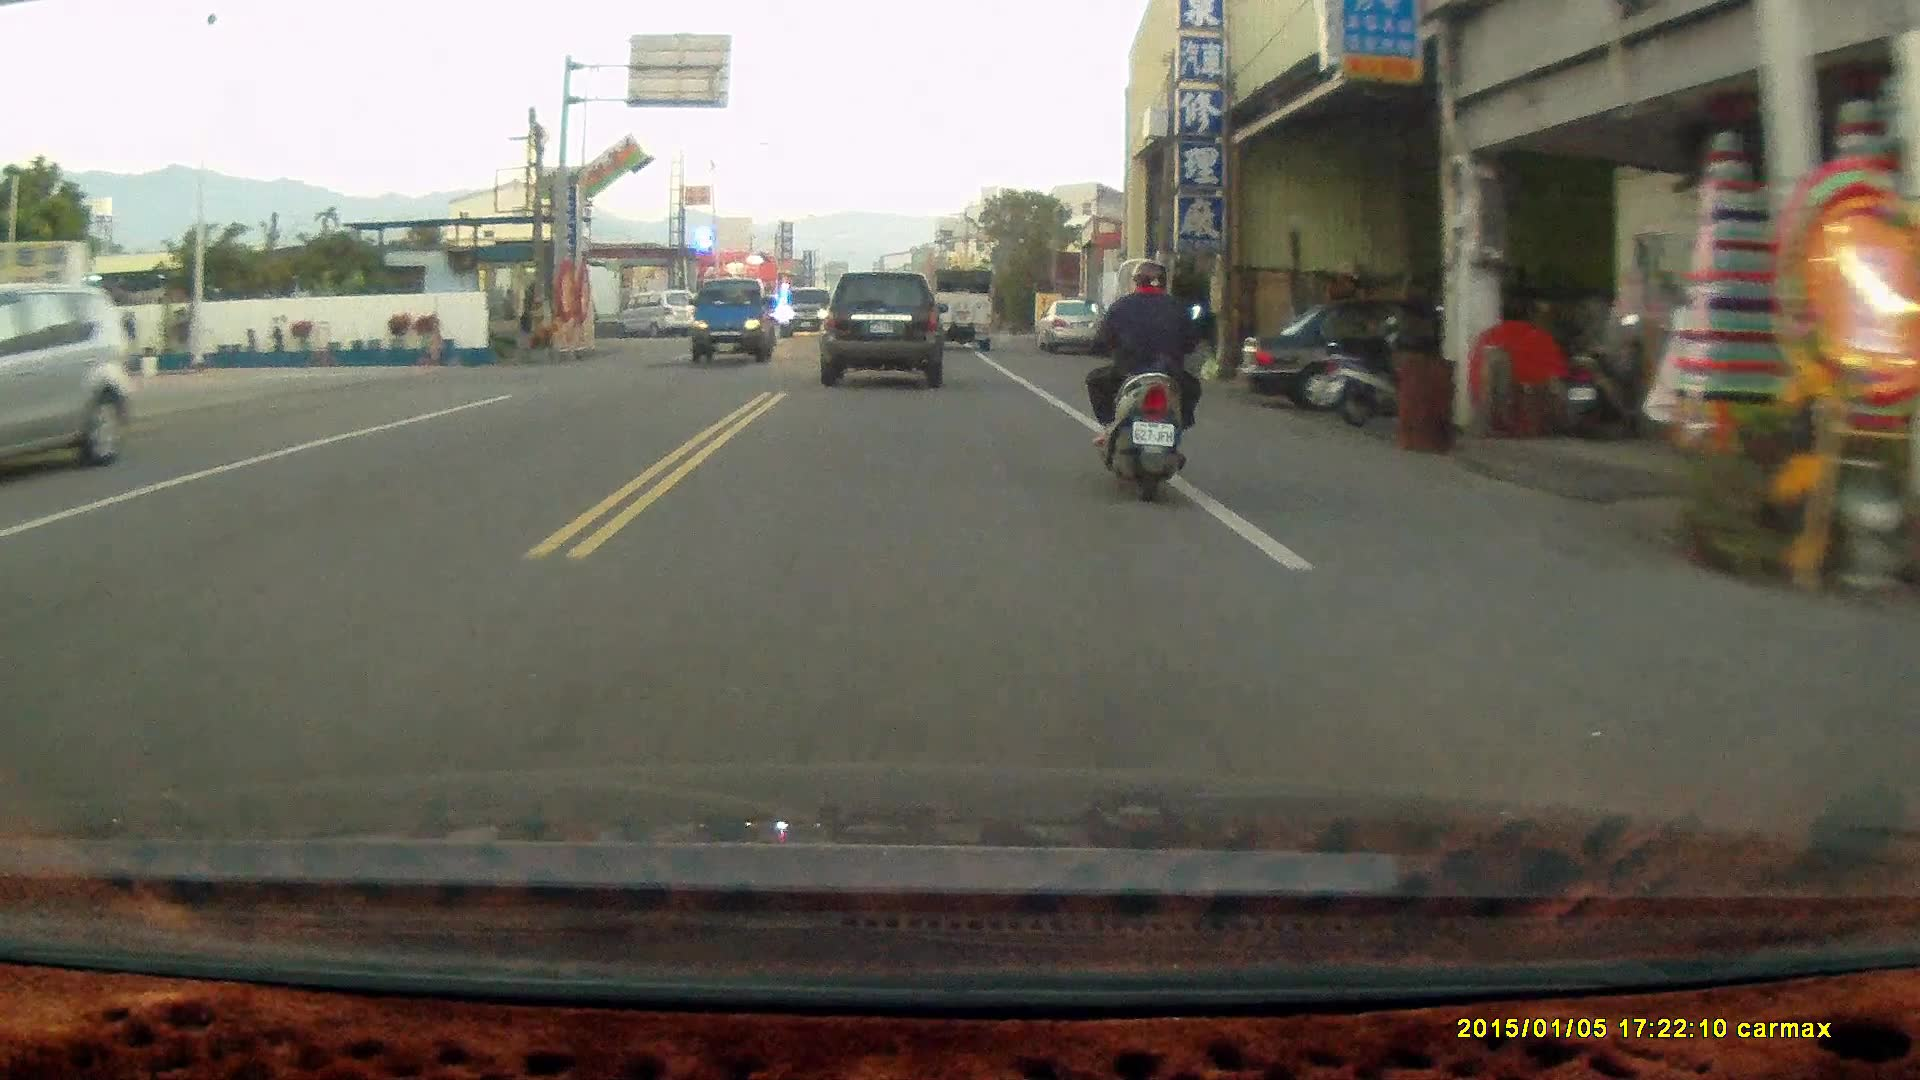rider: (1086, 253, 1204, 499)
vehicle: (1231, 287, 1515, 409), (1, 280, 137, 490), (822, 269, 947, 385), (691, 276, 778, 362), (926, 266, 996, 350), (1040, 297, 1112, 355), (617, 290, 701, 338)
